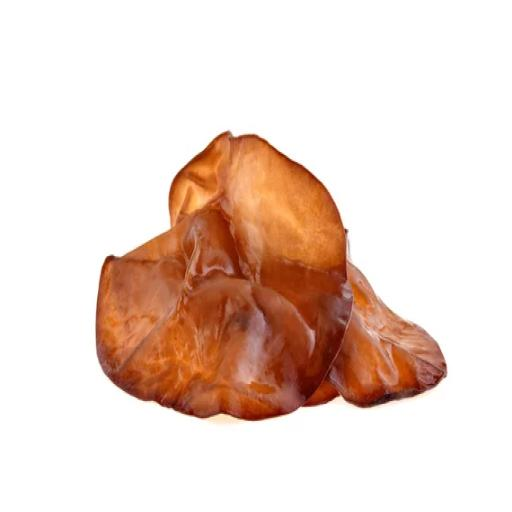Wood Ear Mushroom: (86, 128, 462, 441)
